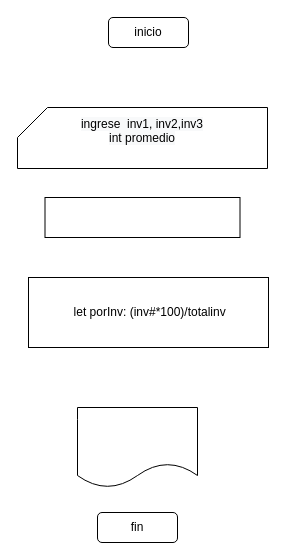
The diagram is 286 pixels wide and 560 high, and some of its shapes have lost their labels. The shapes that lost their labels are listed below. From the top down, each one's centre as x and y in pixels, then its label:
[142,217]: let totalInv= (inv1+inv2+inv3)
[137,447]: escriba el porcentaje inversión es porinv
